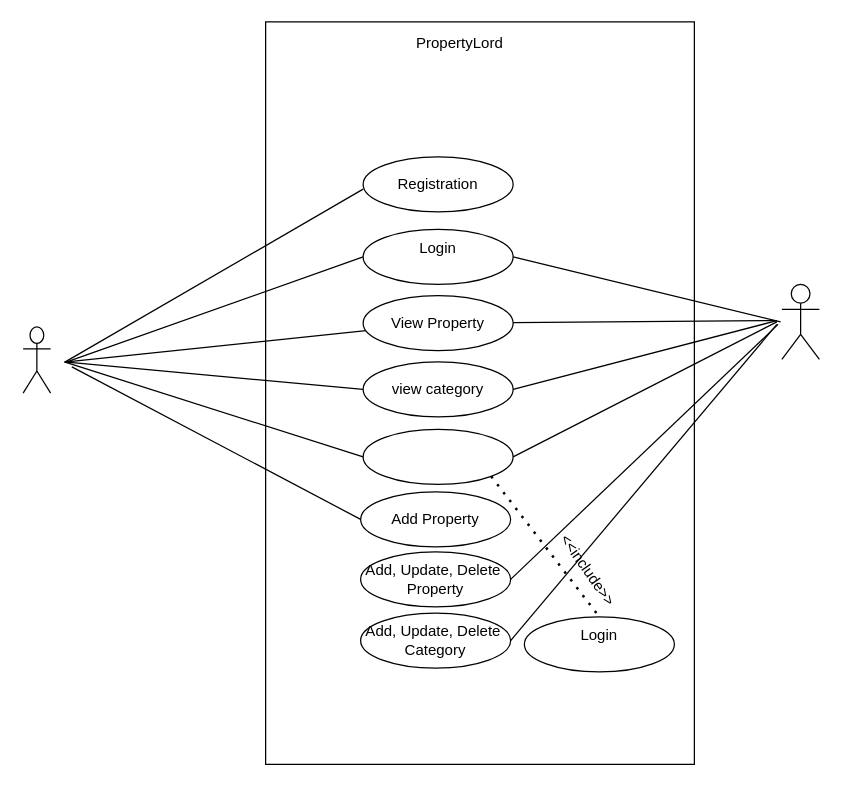
The diagram is 844 pixels wide and 786 high, and some of its shapes have lost their labels. The centre of each missing label's shape, as x and y in pixels:
"Admin" belongs at point (800, 321).
"Owner contact" belongs at point (437, 456).
"User" belongs at point (36, 359).
